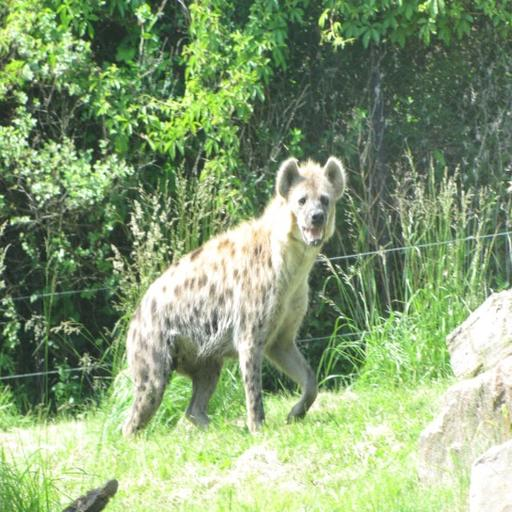Hyena: (109, 154, 349, 439)
